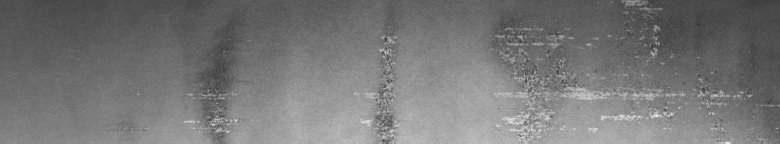hc: (184, 76, 238, 136)
